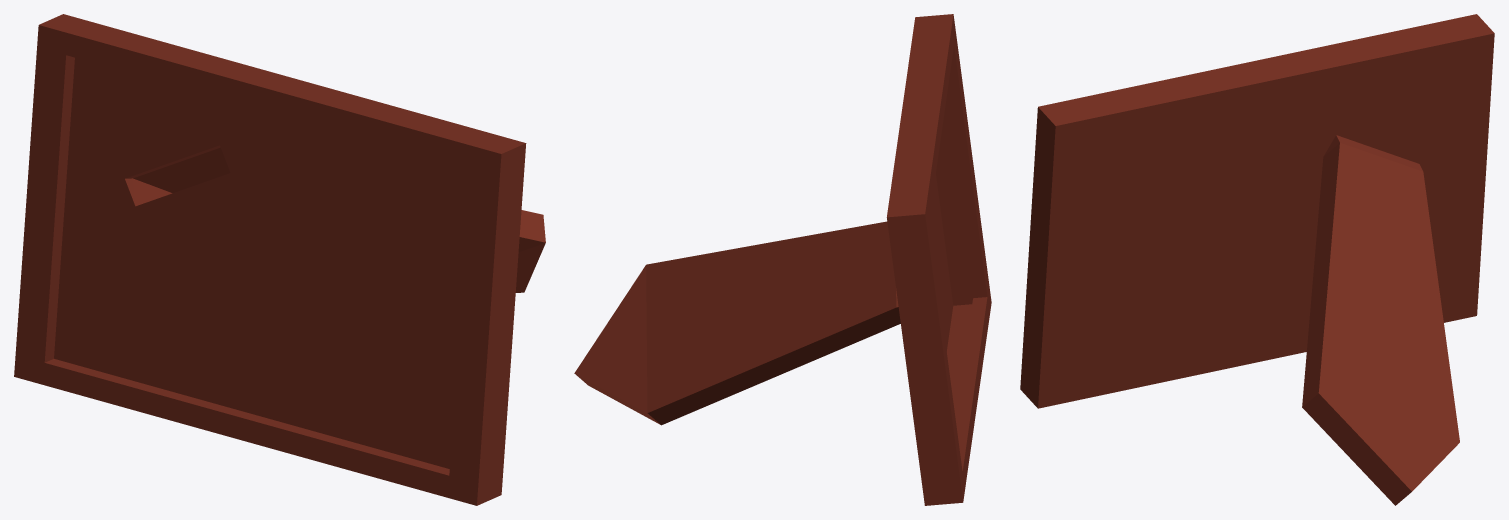
File: PhotoFrame.fbx
3 renders of one model, left to right at view 1: azimuth 30°, elevation 25°; view 2: azimuth 150°, elevation 25°; view 3: azimuth 270°, elevation 25°, orthographic. The views are drawn at different scales.
Parts seen in each view (by area): view 1: PhotoFrame; view 2: PhotoFrame; view 3: PhotoFrame.
Boxes of the visible parts, x1,y1,x2,y2 form: PhotoFrame: [14, 14, 545, 505]; PhotoFrame: [574, 14, 991, 505]; PhotoFrame: [1020, 14, 1494, 505].
Bounding box in the file's own units: 0.3881 × 0.3744 × 0.263.
